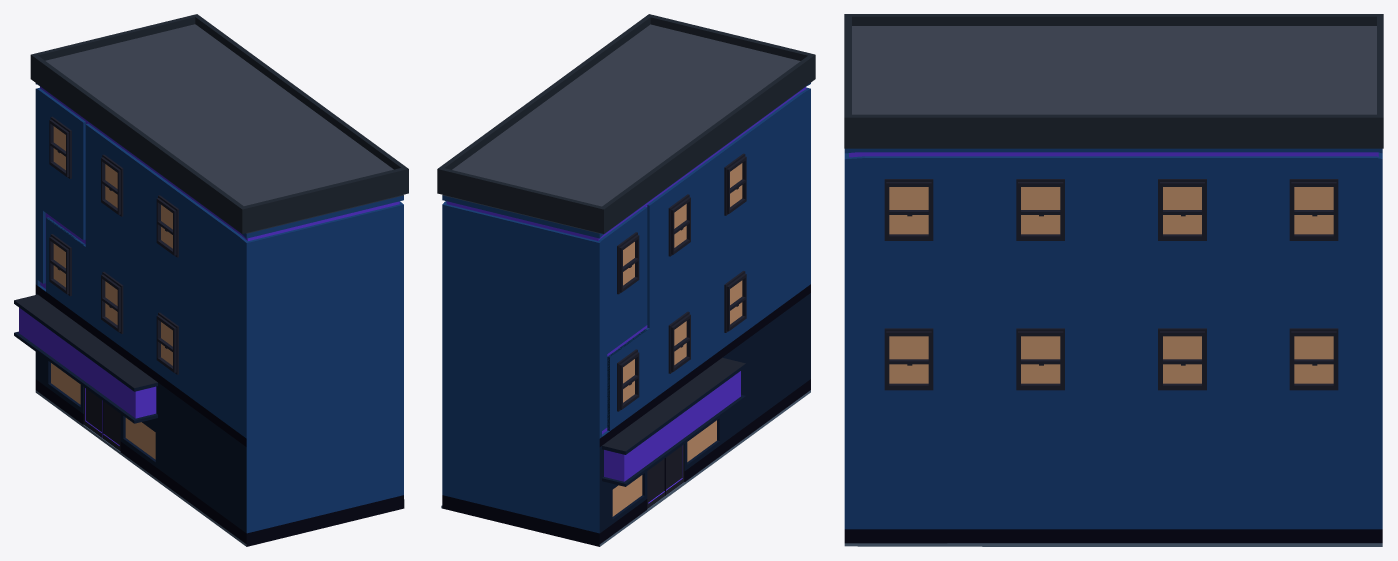
Rendered from Building_MintApartment04.fbx.
3 views of the same model, side by side, from view 1: azimuth 30°, elevation 25°; view 2: azimuth 150°, elevation 25°; view 3: azimuth 270°, elevation 25° (orthographic). The views are drawn at different scales.
Parts seen in each view (by area): view 1: Cube.787, Cube.789, Cube.788; view 2: Cube.787, Cube.788, Cube.789; view 3: Cube.787.
Boxes of the visible parts, x1,y1,x2,y2 form: Cube.787: (14,14,408,546); Cube.789: (84,387,102,437); Cube.788: (102,401,120,451); Cube.787: (437,14,815,546); Cube.788: (665,444,684,495); Cube.789: (647,458,665,508); Cube.787: (844,14,1383,546).
Size of the model in its own units: 553 by 963 by 1091.
